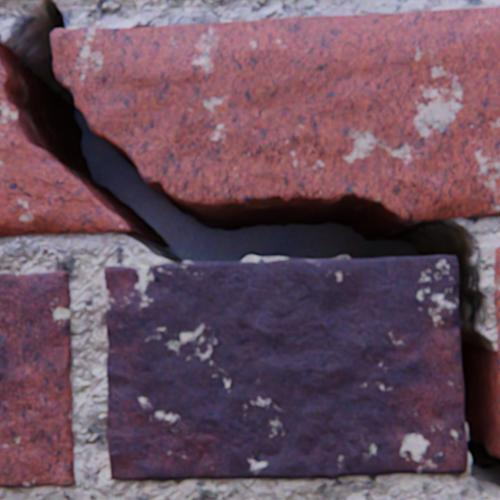brick: (105, 255, 466, 479), (0, 270, 76, 486), (493, 247, 499, 391)
broken_brick: (51, 8, 499, 220), (0, 56, 131, 236), (0, 35, 2, 46)
crack: (0, 0, 499, 498)
